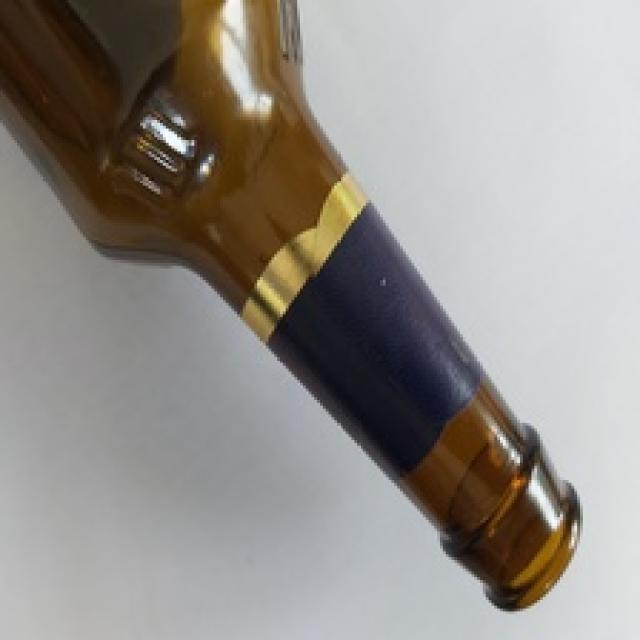Glass: (0, 0, 586, 611)
